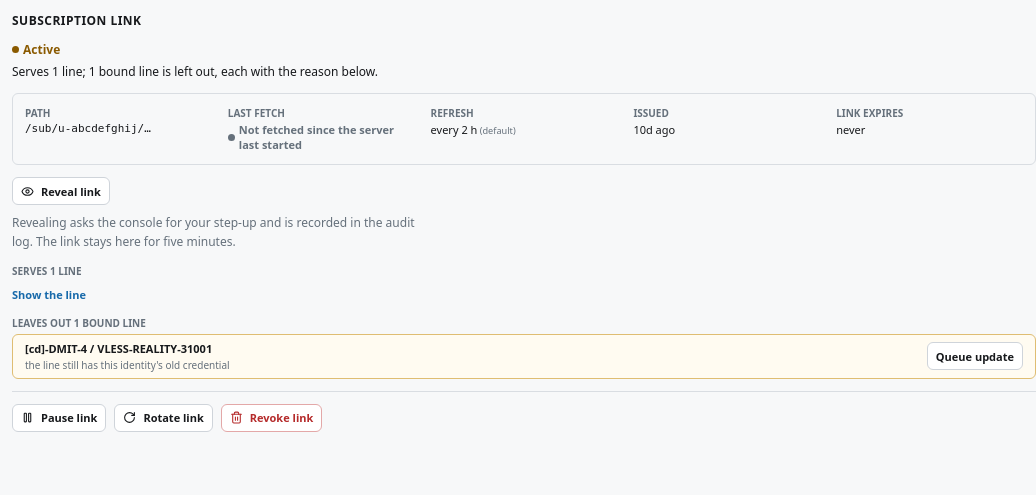
a plan filed from a left-out line › replaces the row's button with the plan's state, moves focus there, and refuses a second filing
What coordinates should you click on to do the following:
click the button "Queue update"
I would click on:
 (975, 356)
Its box is [927, 342, 1023, 370].
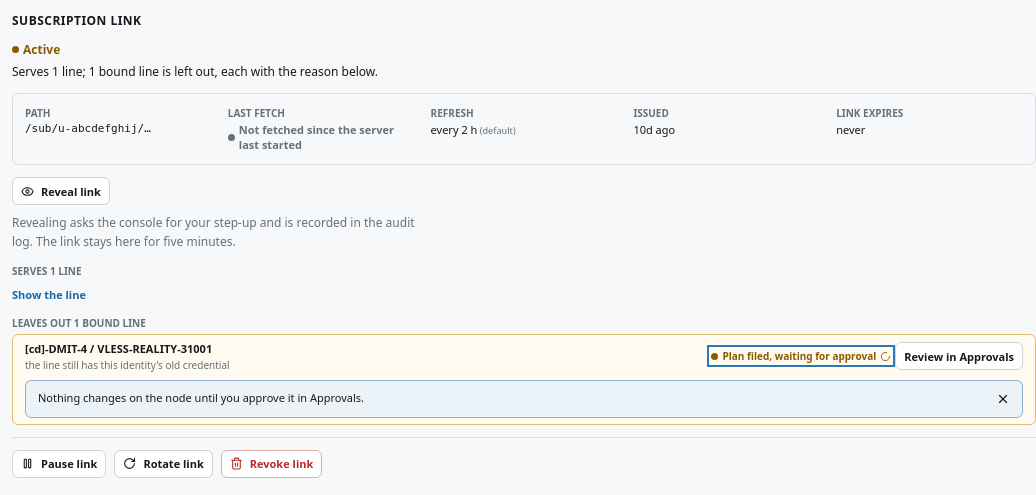
Check: the list item shows "Review in Approvals", box [895, 342, 1023, 370]
Check: the text "Plan filed, waiting for approval" is shown, box [712, 349, 891, 363]
